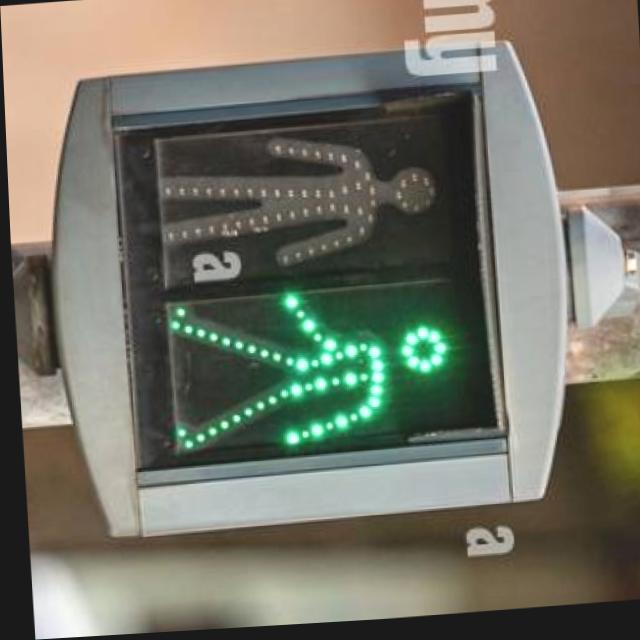green_light: (159, 278, 480, 463)
